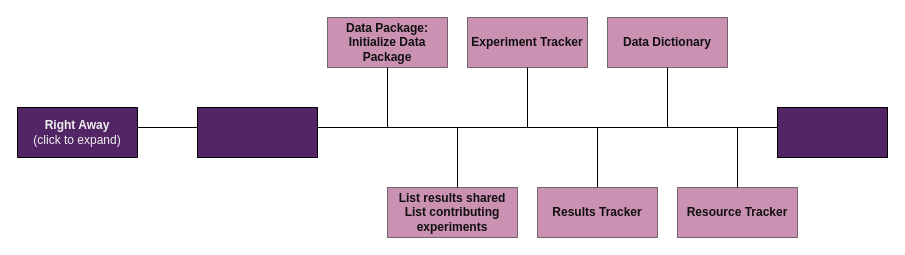
The diagram is 905 pixels wide and 255 high, and some of its shapes have lost their labels. The centre of each missing label's shape, as x and y in pixels:
Manuscript Submitted: (x=257, y=132)
Submit to a Repository: (x=832, y=132)
